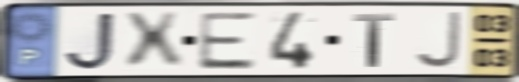4: (267, 10, 318, 72)
E: (194, 10, 258, 72)
J: (61, 10, 118, 72), (411, 10, 464, 71)
T: (351, 12, 397, 69)
X: (120, 10, 188, 73)
